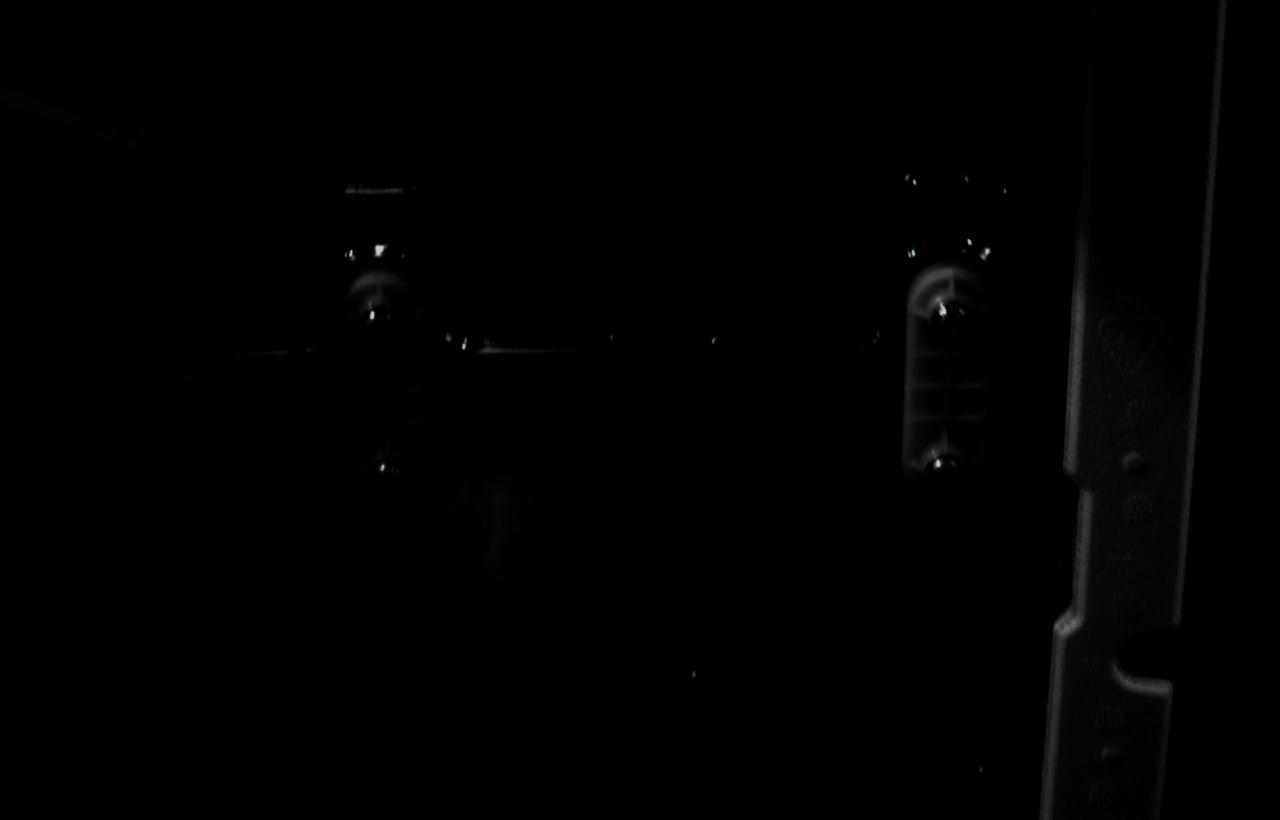vida-ok: (924, 453, 967, 493), (930, 301, 972, 340), (357, 306, 400, 344), (367, 457, 408, 495)
